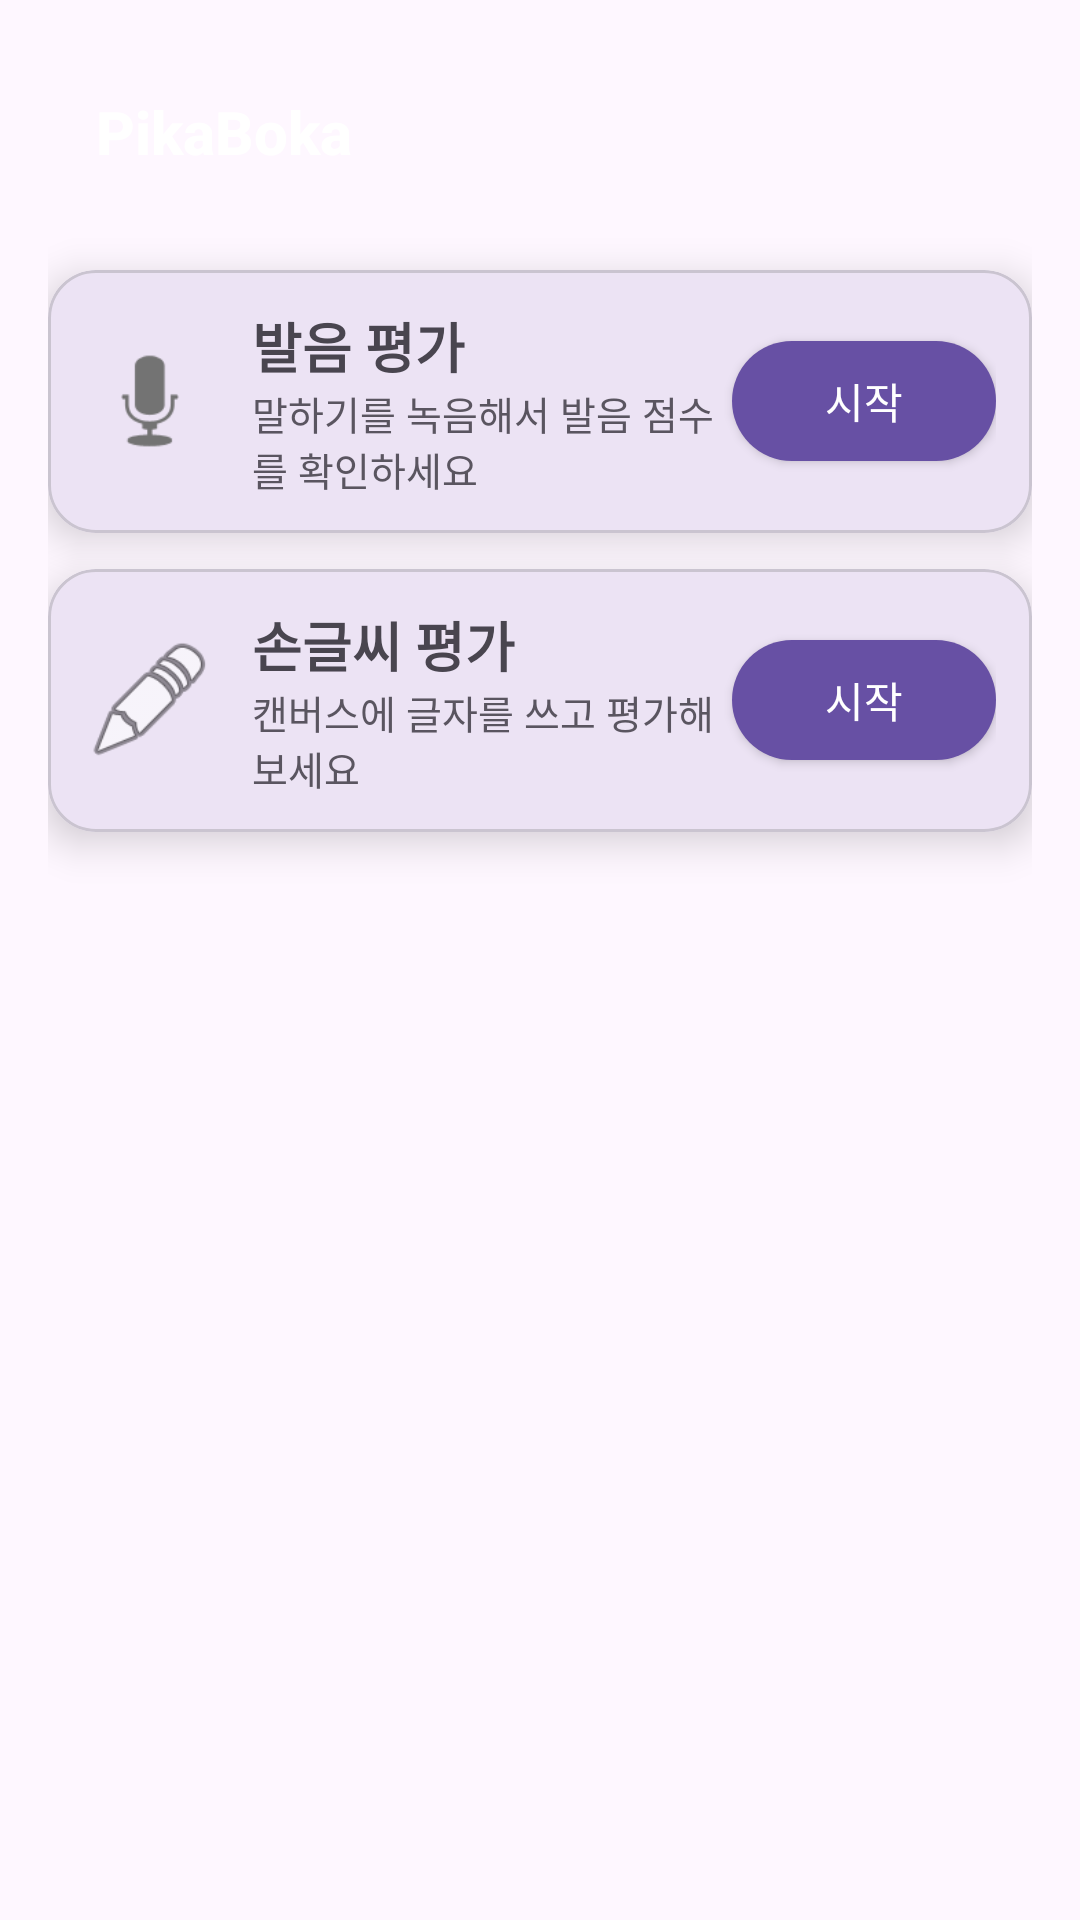

Icon bounding boxes for this 1080 × 1920 phone screenshot, format (x1, y1, x2, y2):
handwriting icon: (94, 643, 205, 755)
speech icon: (121, 355, 179, 447)
